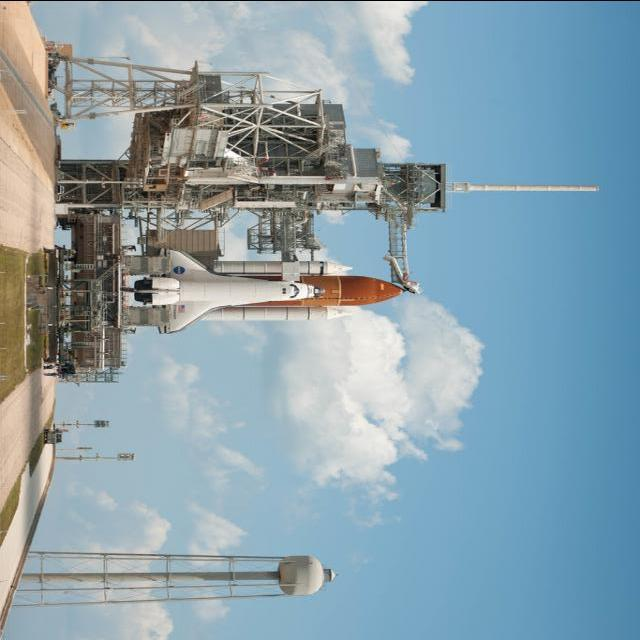Missile: (209, 302, 361, 322), (205, 257, 370, 275)
